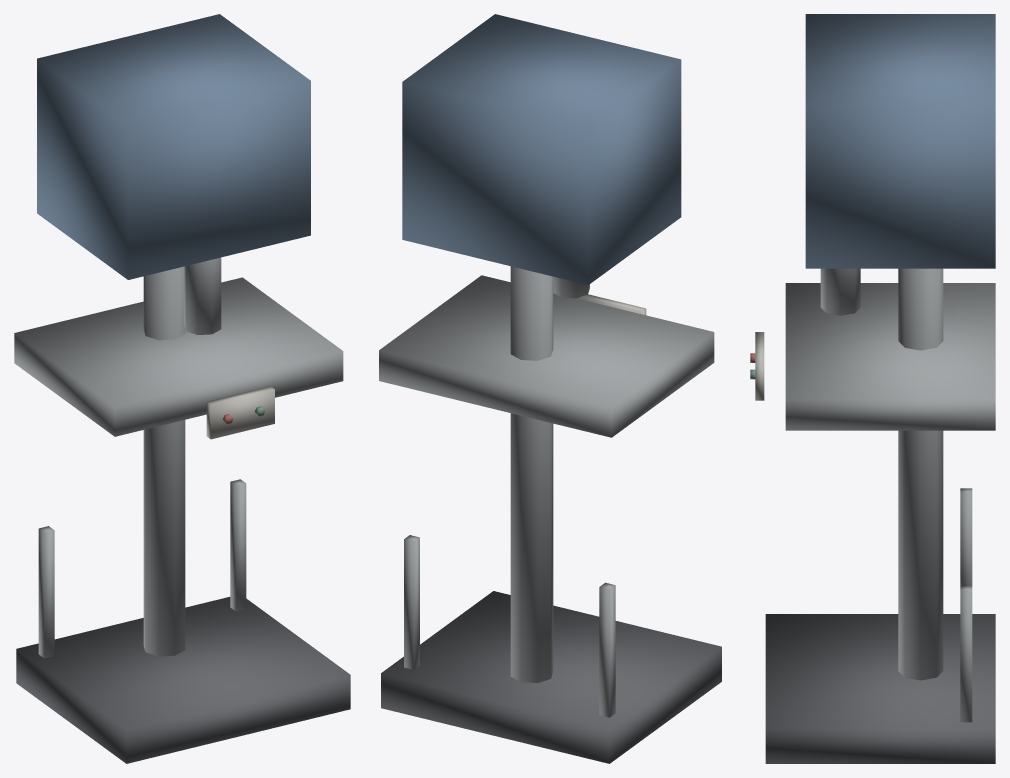
The model's file is drill_press__reinforced.glb.
The picture shows the model from 3 angles, left to right: view 1: azimuth 30°, elevation 25°; view 2: azimuth 150°, elevation 25°; view 3: azimuth 270°, elevation 25°; orthographic projection. The views are drawn at different scales.
Visible parts, largest first — view 1: world; view 2: world; view 3: world.
Boxes of the visible parts, bbox=[...] form: world: bbox=[14, 14, 350, 763]; world: bbox=[379, 14, 721, 763]; world: bbox=[750, 14, 995, 763].
Bounding box in the file's own units: 0.5665 × 1.47 × 0.5057.
